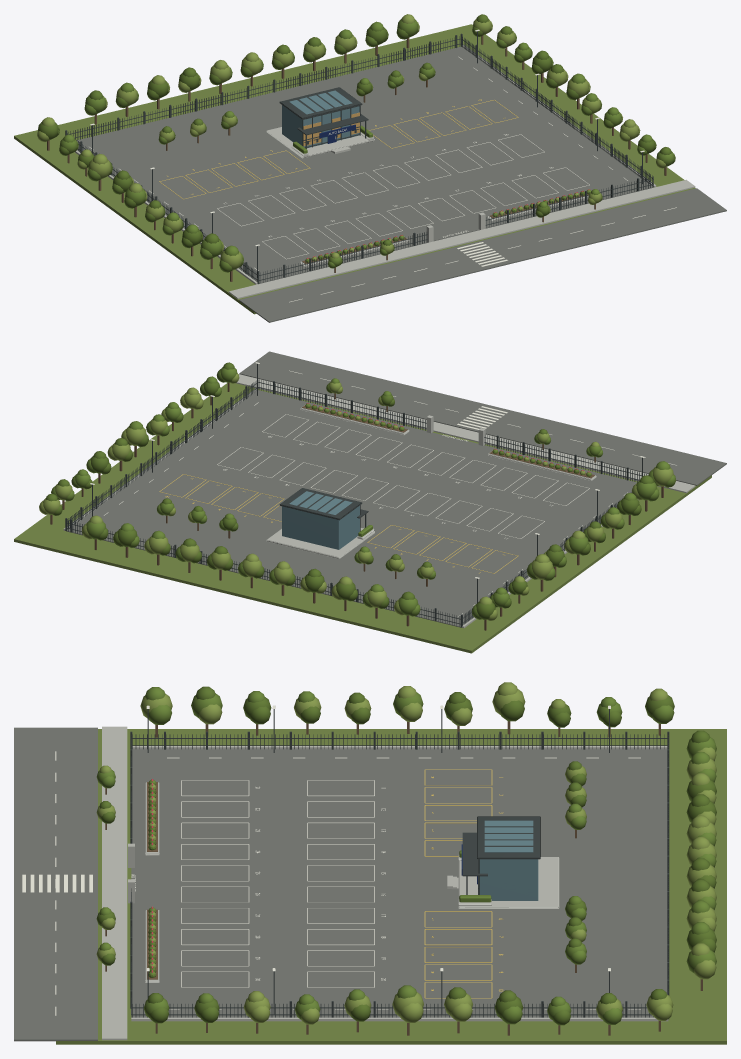
Rendered from market.glb.
3 views of the same model, one above another, from view 1: azimuth 30°, elevation 25°; view 2: azimuth 150°, elevation 25°; view 3: azimuth 270°, elevation 25° (orthographic). The views are drawn at different scales.
Parts seen in each view (by area): view 1: Market_Asphalt, Market_Grass, Market_Fence graphite, Market_Concrete, Market_Foliage 1, Market_Foliage 2, Market_Foliage 0, Market_Road paint, Market_Office glazing, Market_Bark, Market_VIP gold; view 2: Market_Asphalt, Market_Grass, Market_Foliage 1, Market_Fence graphite, Market_Concrete, Market_Foliage 2, Market_Foliage 0, Market_Office glazing, Market_Road paint, Market_Bark, Market_VIP gold; view 3: Market_Asphalt, Market_Grass, Market_Concrete, Market_Foliage 1, Market_Fence graphite, Market_Foliage 2, Market_Foliage 0, Market_Road paint, Market_Office glazing, Market_VIP gold, Market_Bark.
Part boxes in pixels (x1=…): Market_Asphalt: x1=77, y1=46, x2=726, y2=322; Market_Grass: x1=14, y1=24, x2=695, y2=314; Market_Fence graphite: x1=65, y1=31, x2=653, y2=283; Market_Concrete: x1=75, y1=45, x2=695, y2=298; Market_Foliage 1: x1=37, y1=14, x2=666, y2=270; Market_Foliage 2: x1=38, y1=14, x2=675, y2=259; Market_Foliage 0: x1=55, y1=19, x2=674, y2=272; Market_Road paint: x1=89, y1=29, x2=676, y2=302; Market_Office glazing: x1=282, y1=90, x2=359, y2=148; Market_Bark: x1=47, y1=35, x2=666, y2=281; Market_VIP gold: x1=159, y1=99, x2=518, y2=199; Market_Asphalt: x1=66, y1=351, x2=726, y2=627; Market_Grass: x1=14, y1=383, x2=711, y2=653; Market_Foliage 1: x1=39, y1=373, x2=673, y2=620; Market_Fence graphite: x1=65, y1=363, x2=646, y2=627; Market_Concrete: x1=63, y1=374, x2=695, y2=627; Market_Foliage 2: x1=45, y1=362, x2=653, y2=619; Market_Foliage 0: x1=51, y1=367, x2=676, y2=619; Market_Office glazing: x1=282, y1=491, x2=359, y2=549; Market_Road paint: x1=90, y1=362, x2=676, y2=616; Market_Bark: x1=50, y1=382, x2=663, y2=630; Market_VIP gold: x1=159, y1=474, x2=518, y2=573; Market_Asphalt: x1=14, y1=727, x2=667, y2=1041; Market_Grass: x1=56, y1=729, x2=726, y2=1044; Market_Concrete: x1=102, y1=726, x2=668, y2=1040; Market_Foliage 1: x1=96, y1=682, x2=716, y2=1024; Market_Fence graphite: x1=130, y1=709, x2=669, y2=1019; Market_Foliage 2: x1=96, y1=686, x2=716, y2=1025; Market_Foliage 0: x1=96, y1=687, x2=716, y2=1024; Market_Road paint: x1=22, y1=705, x2=640, y2=1015; Market_Office glazing: x1=479, y1=820, x2=538, y2=900; Market_VIP gold: x1=424, y1=769, x2=503, y2=998; Market_Bark: x1=105, y1=721, x2=702, y2=1035.
Size of the model in its own units: 89.63 by 7.29 by 85.
